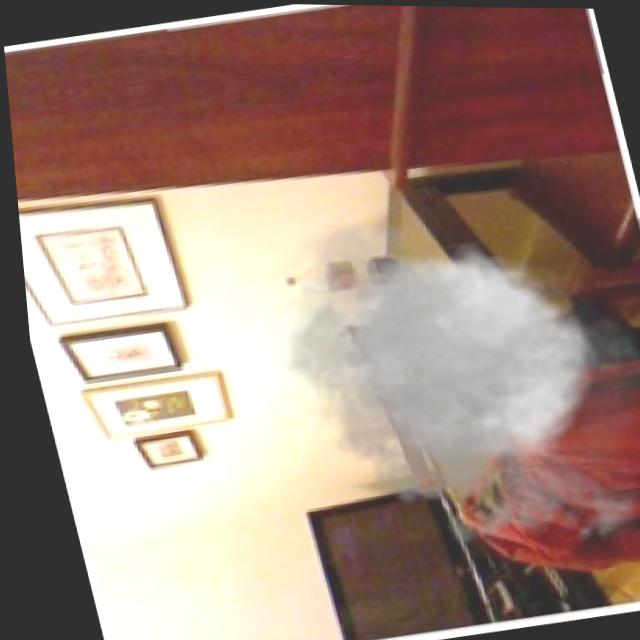Smoke: (222, 167, 640, 589)
